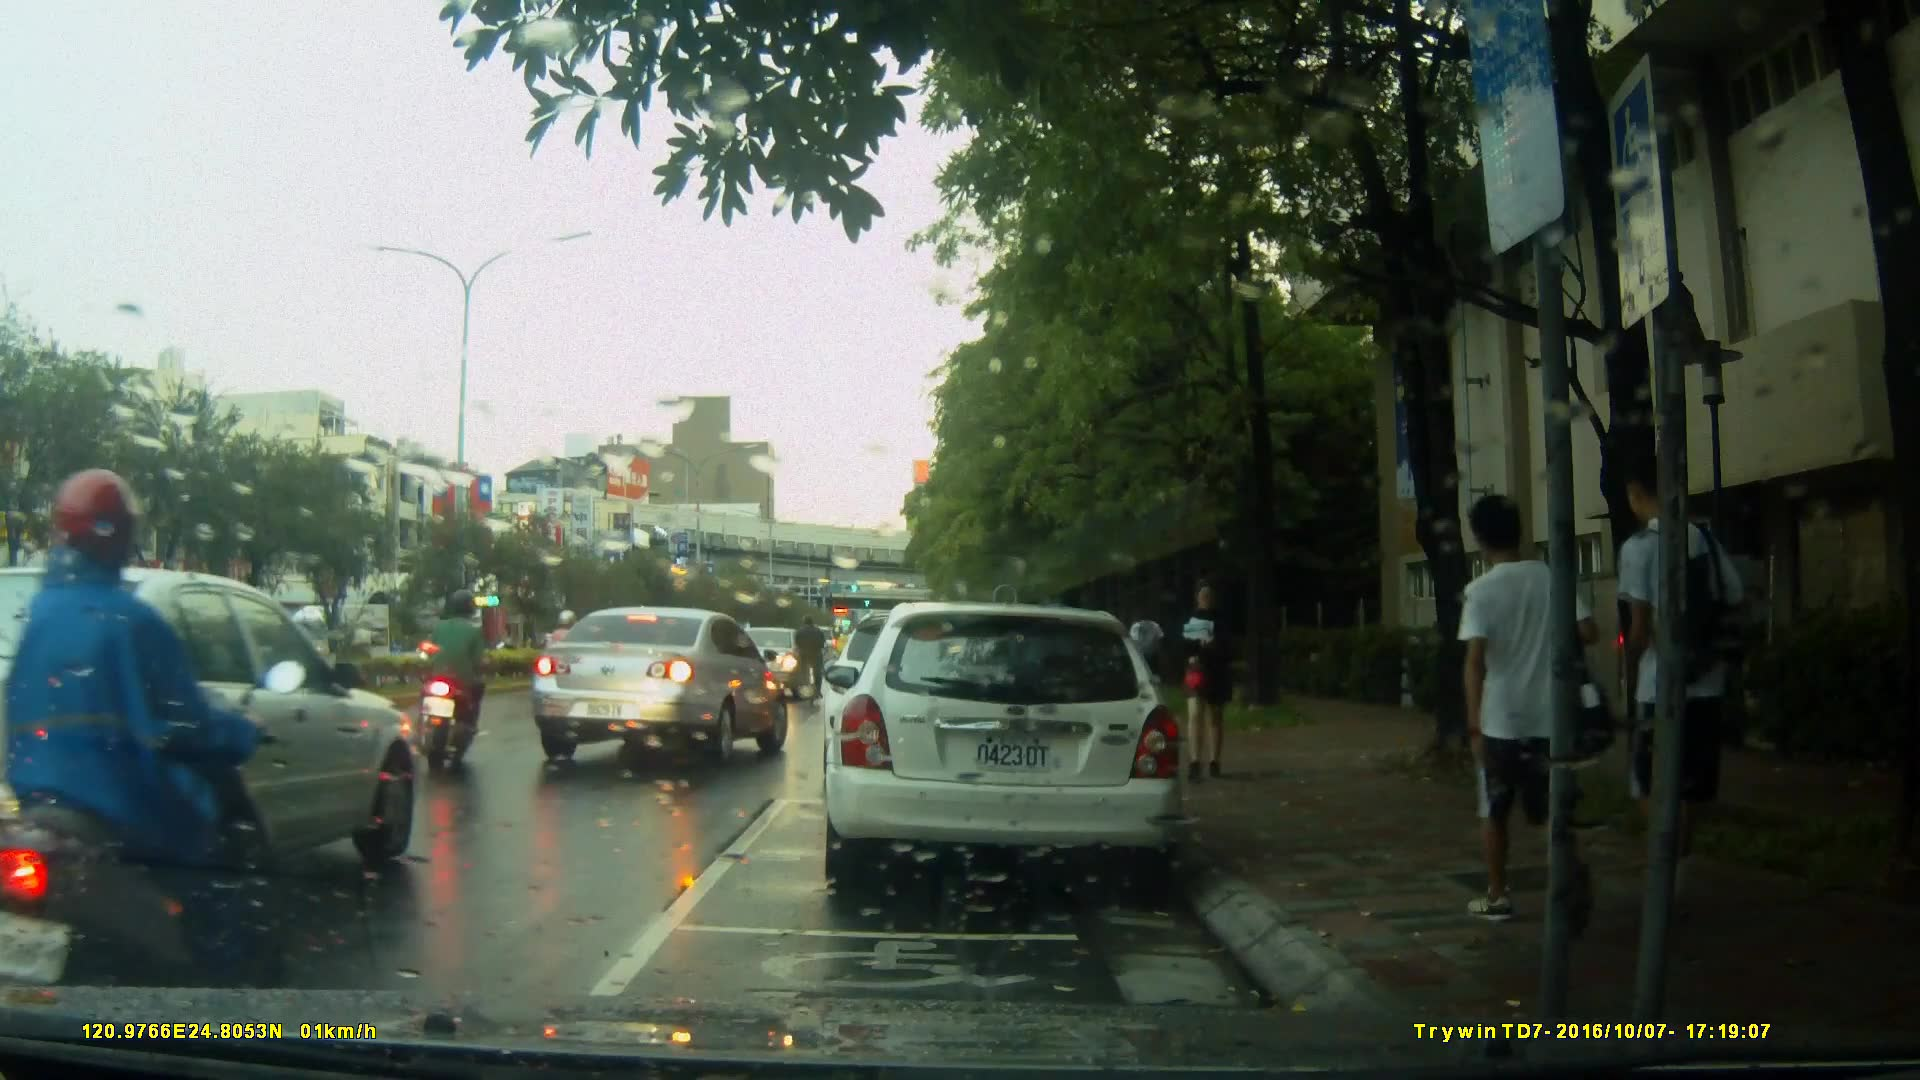pedestrian: (1445, 471, 1608, 939), (1603, 442, 1732, 933), (1174, 567, 1245, 787), (1126, 604, 1169, 732)
rider: (1, 469, 316, 1010), (421, 585, 503, 768), (540, 605, 582, 730), (790, 612, 824, 710)
vehicle: (1, 563, 428, 938), (820, 602, 1188, 898), (527, 604, 795, 771), (713, 627, 818, 701)
